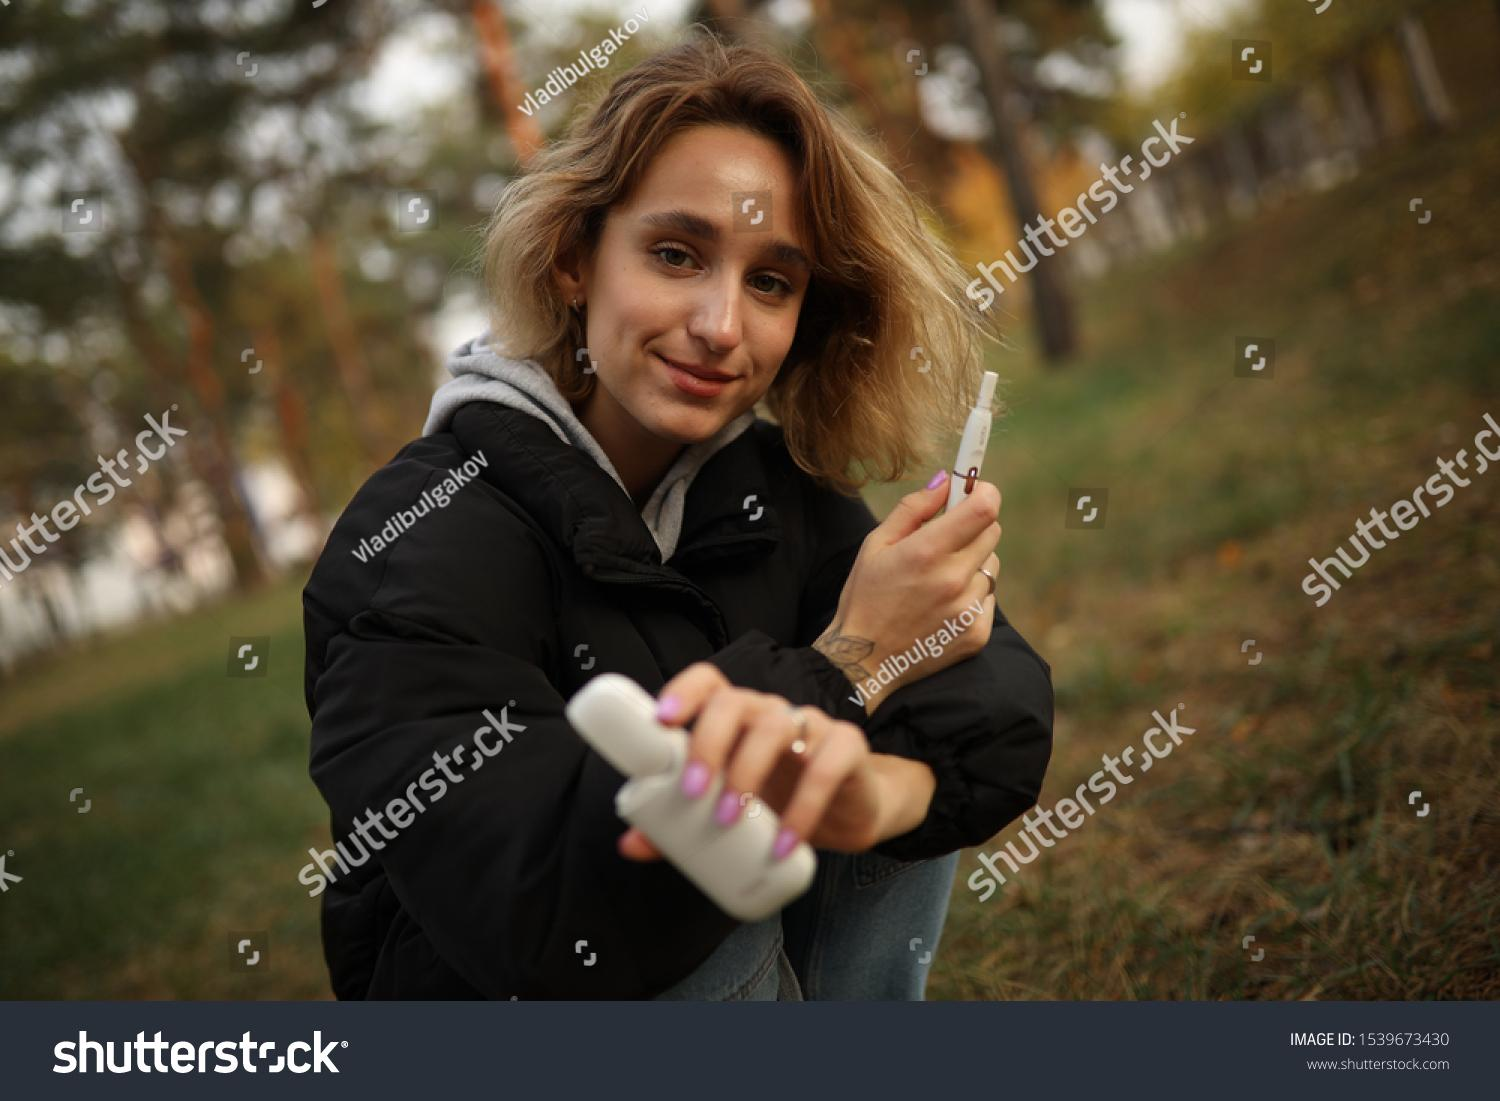iqos: (946, 370, 998, 511)
